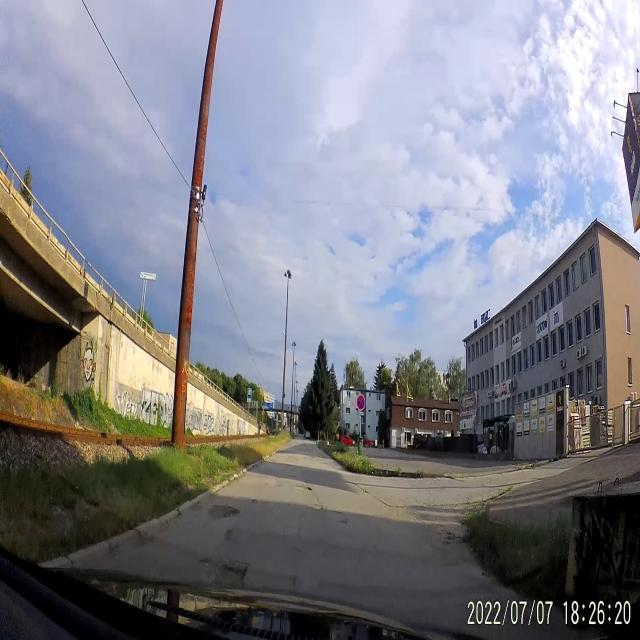Pothole: (200, 553, 253, 591), (206, 496, 240, 519), (310, 503, 330, 515), (222, 525, 235, 542), (293, 483, 314, 492), (288, 474, 298, 480), (339, 518, 348, 524), (252, 498, 258, 502), (364, 489, 368, 494)
